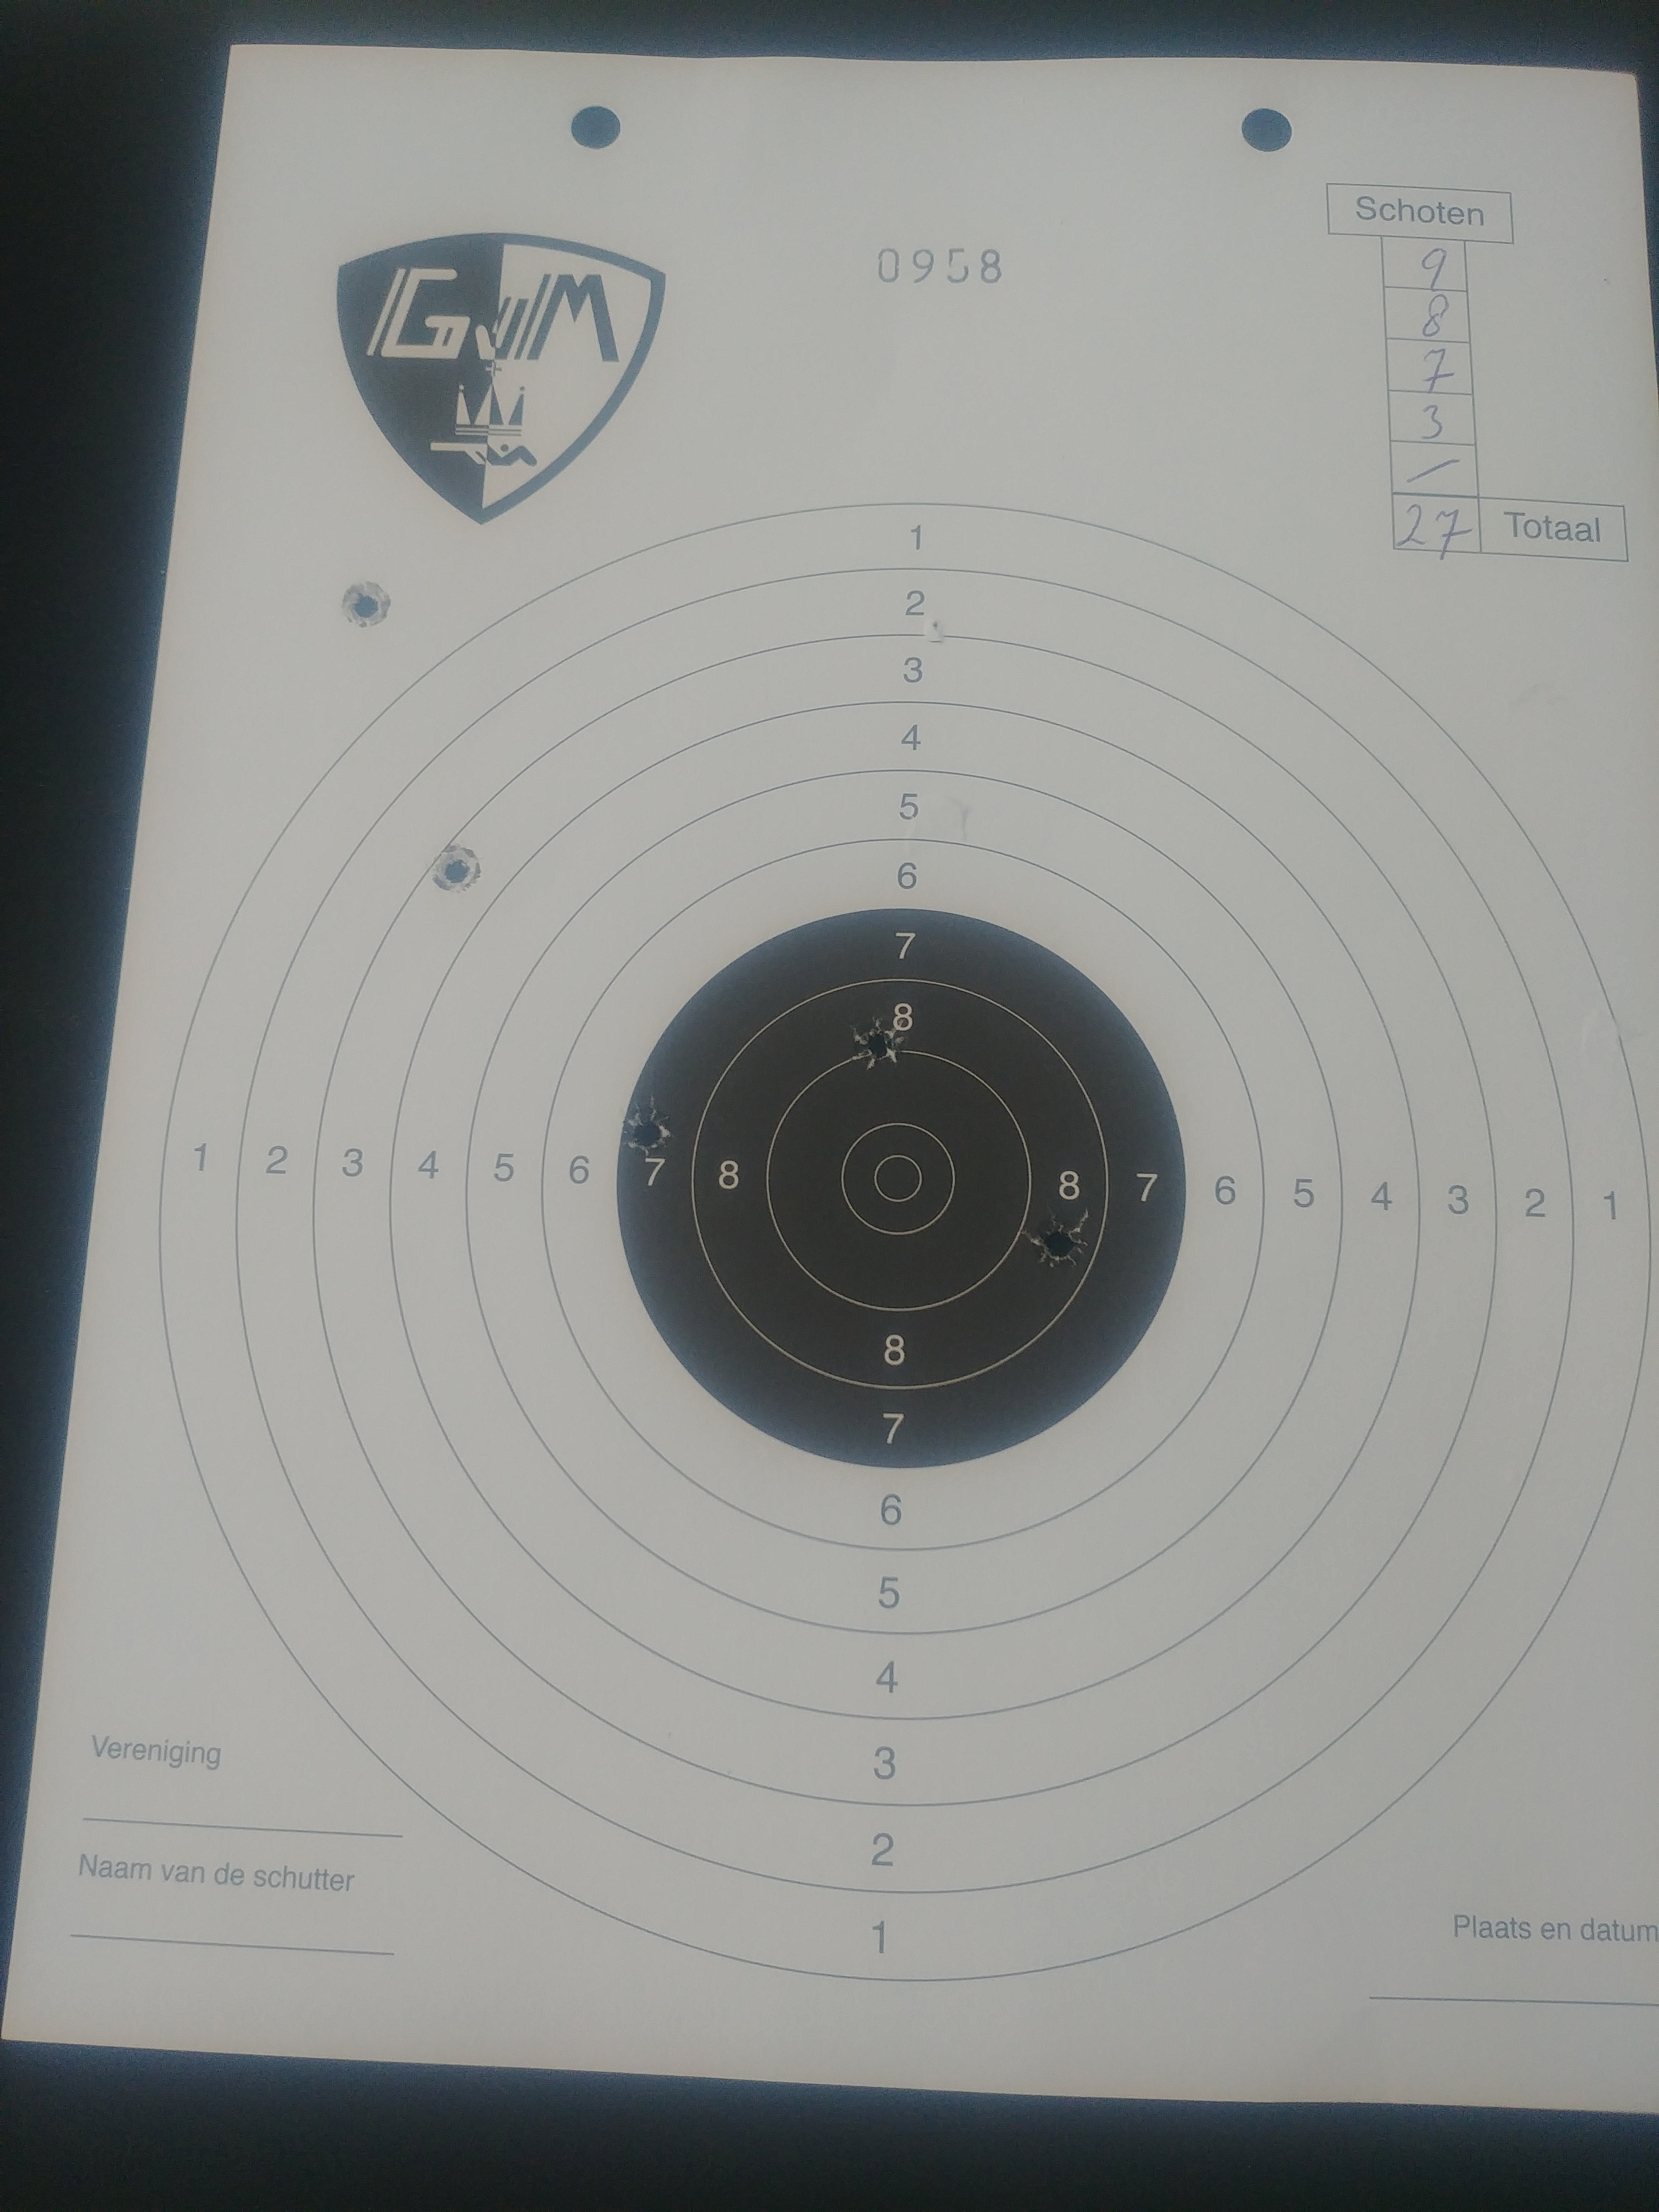center: (615, 907, 1188, 1470)
out: (157, 496, 1647, 1989)
shot: (1025, 1209, 1096, 1273), (850, 1010, 904, 1069), (620, 1097, 671, 1155), (340, 578, 392, 631), (430, 845, 483, 895)
target: (840, 1122, 957, 1235)
